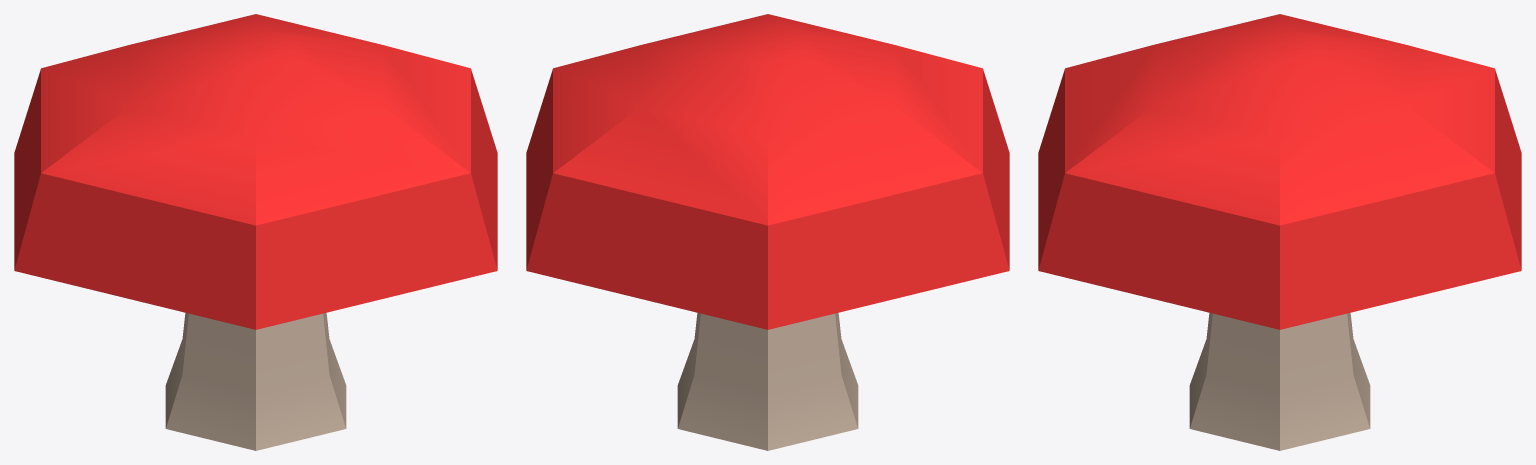
Rendered from Vegetation_Mushroom_Red_02.fbx.
The picture shows the model from 3 angles, left to right: view 1: azimuth 30°, elevation 25°; view 2: azimuth 150°, elevation 25°; view 3: azimuth 270°, elevation 25°; orthographic projection.
Visible parts, largest first — view 1: Vegetation_Mushroom_Red_02; view 2: Vegetation_Mushroom_Red_02; view 3: Vegetation_Mushroom_Red_02.
Part boxes in pixels (x1,y1,x2,y2): Vegetation_Mushroom_Red_02: (14, 14, 497, 450); Vegetation_Mushroom_Red_02: (526, 14, 1009, 450); Vegetation_Mushroom_Red_02: (1038, 14, 1521, 450).
Bounding box in the file's own units: 17.43 × 12.39 × 15.09.
